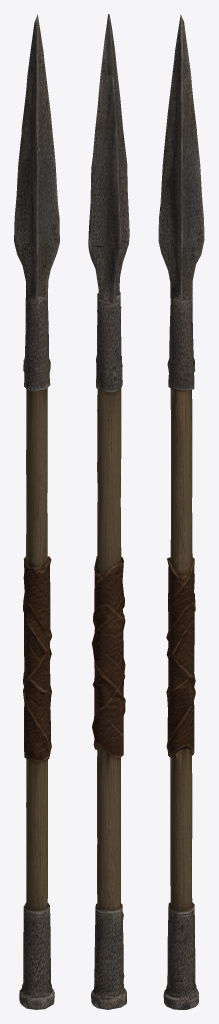
Rendered from itm_guard_spear_CONCEPTO_.glb.
The picture shows the model from 3 angles, left to right: view 1: azimuth 90°, elevation 25°; view 2: azimuth 210°, elevation 25°; view 3: azimuth 270°, elevation 25°; orthographic projection.
Parts seen in each view (by area): view 1: itm_guard_spear; view 2: itm_guard_spear; view 3: itm_guard_spear.
Part boxes in pixels (x1=…): itm_guard_spear: x1=14, y1=14, x2=59, y2=1009; itm_guard_spear: x1=88, y1=14, x2=129, y2=1009; itm_guard_spear: x1=158, y1=14, x2=204, y2=1009.
Size of the model in its own units: 0.0949 by 2.2 by 0.0928.
Materials: 1 (1 with a texture image).
